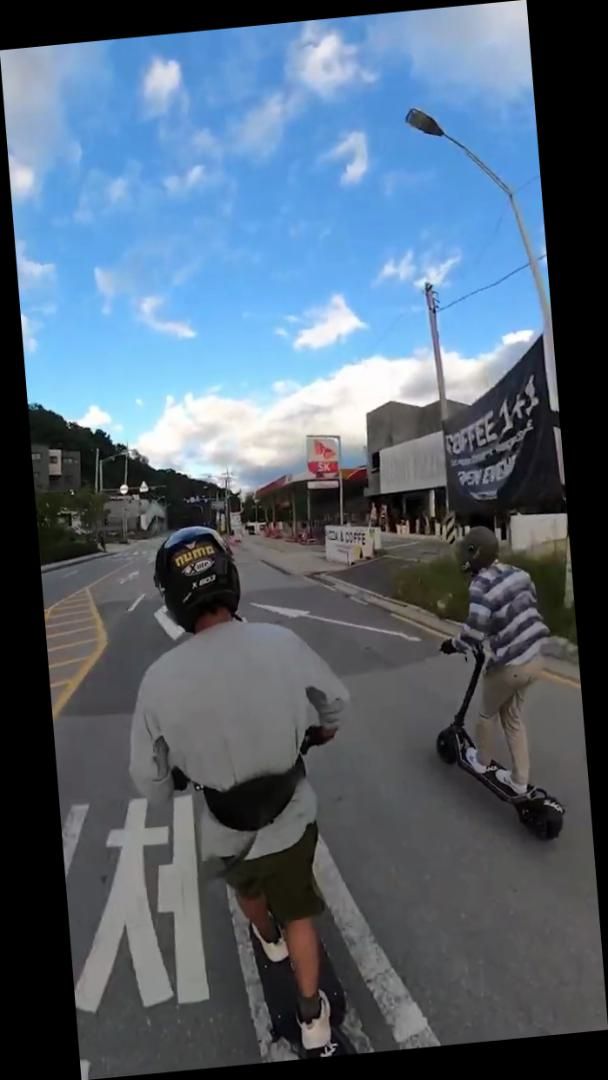helmet: (110, 510, 377, 1074), (414, 517, 569, 849)
